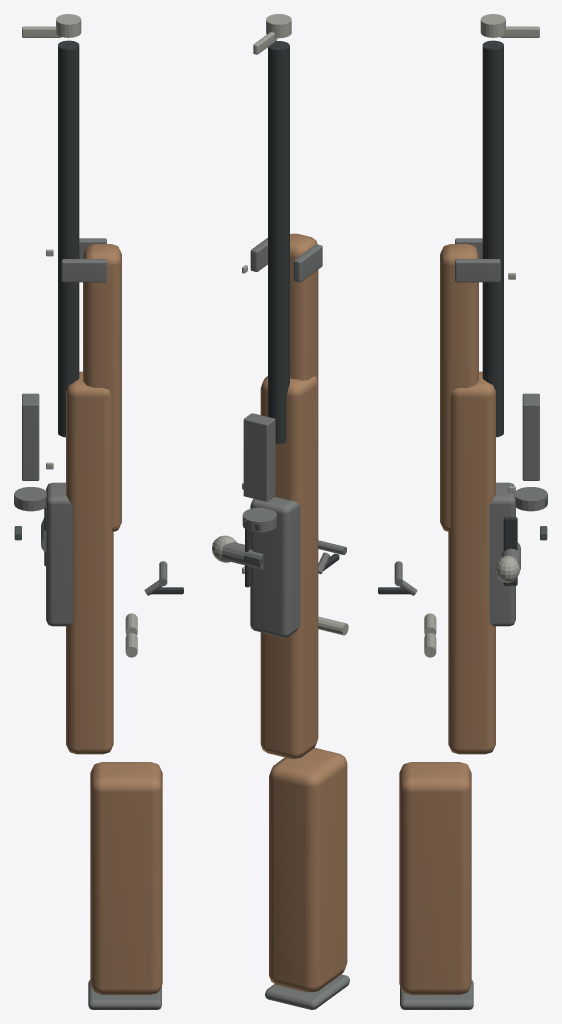
The model's file is wave24_kar98.glb.
3 views of the same model, side by side, from view 1: azimuth 90°, elevation 25°; view 2: azimuth 150°, elevation 25°; view 3: azimuth 270°, elevation 25° (orthographic).
Visible parts, largest first — view 1: kar98 contoured hardwood butt, kar98 long hardwood forearm, kar98 barrel forged steel, kar98 lower walnut forestock, kar98 precision receiver, kar98 rear ladder sight base, kar98 textured military buttplate, kar98 steel barrel retainer -1, kar98 chamber sight notch, kar98 muzzle crown, kar98 front sight post; view 2: kar98 contoured hardwood butt, kar98 long hardwood forearm, kar98 barrel forged steel, kar98 precision receiver, kar98 lower walnut forestock, kar98 rear ladder sight base, kar98 textured military buttplate, kar98 steel barrel retainer -1, kar98 chamber sight notch, kar98 bent bolt handle, kar98 muzzle crown, kar98 steel barrel retainer 1 (+2 smaller); view 3: kar98 contoured hardwood butt, kar98 long hardwood forearm, kar98 barrel forged steel, kar98 lower walnut forestock, kar98 precision receiver, kar98 rear ladder sight base, kar98 textured military buttplate, kar98 steel barrel retainer 1, kar98 chamber sight notch, kar98 muzzle crown, kar98 ejector bolt slot, kar98 polished bolt ball (+1 smaller).
Part boxes in pixels (left/top/right/bottom): kar98 contoured hardwood butt: left=90, top=762, right=162, bottom=994; kar98 long hardwood forearm: left=66, top=371, right=113, bottom=754; kar98 barrel forged steel: left=58, top=40, right=79, bottom=437; kar98 lower walnut forestock: left=83, top=244, right=121, bottom=531; kar98 precision receiver: left=46, top=482, right=72, bottom=626; kar98 rear ladder sight base: left=22, top=393, right=39, bottom=480; kar98 textured military buttplate: left=88, top=980, right=161, bottom=1009; kar98 steel barrel retainer -1: left=61, top=259, right=106, bottom=282; kar98 chamber sight notch: left=14, top=487, right=46, bottom=511; kar98 muzzle crown: left=56, top=14, right=81, bottom=37; kar98 front sight post: left=22, top=26, right=61, bottom=37; kar98 contoured hardwood butt: left=269, top=748, right=347, bottom=992; kar98 long hardwood forearm: left=260, top=376, right=318, bottom=758; kar98 barrel forged steel: left=268, top=41, right=289, bottom=443; kar98 precision receiver: left=250, top=496, right=300, bottom=637; kar98 lower walnut forestock: left=290, top=233, right=318, bottom=380; kar98 rear ladder sight base: left=243, top=413, right=275, bottom=501; kar98 textured military buttplate: left=265, top=974, right=349, bottom=1009; kar98 steel barrel retainer -1: left=293, top=244, right=322, bottom=282; kar98 chamber sight notch: left=242, top=507, right=276, bottom=532; kar98 bent bolt handle: left=222, top=542, right=263, bottom=569; kar98 muzzle crown: left=266, top=14, right=291, bottom=38; kar98 steel barrel retainer 1: left=250, top=238, right=267, bottom=271; kar98 contoured hardwood butt: left=399, top=762, right=471, bottom=994; kar98 long hardwood forearm: left=448, top=371, right=495, bottom=754; kar98 barrel forged steel: left=482, top=40, right=503, bottom=437; kar98 lower walnut forestock: left=440, top=244, right=478, bottom=531; kar98 precision receiver: left=489, top=482, right=515, bottom=626; kar98 rear ladder sight base: left=522, top=393, right=539, bottom=480; kar98 textured military buttplate: left=400, top=980, right=473, bottom=1009; kar98 steel barrel retainer 1: left=455, top=259, right=500, bottom=282; kar98 chamber sight notch: left=515, top=487, right=547, bottom=511; kar98 muzzle crown: left=480, top=14, right=505, bottom=37; kar98 ejector bolt slot: left=503, top=517, right=517, bottom=585; kar98 polished bolt ball: left=495, top=555, right=519, bottom=582.
Bounding box in the file's own units: 0.2242 × 2.3 × 0.361.
